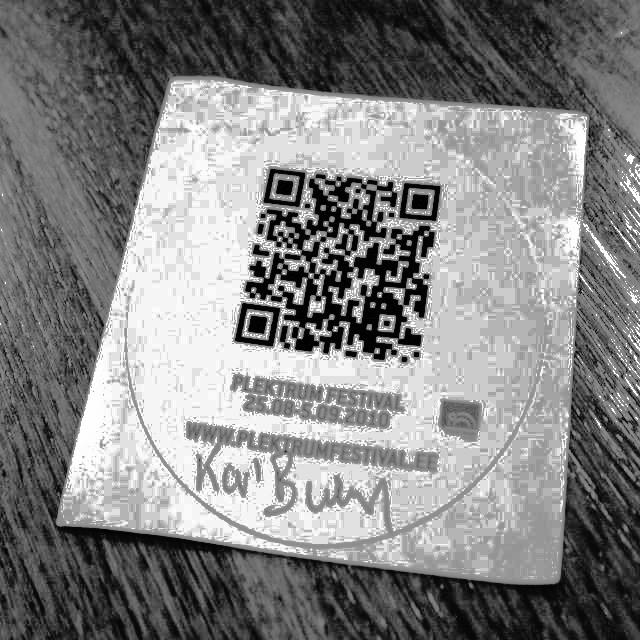qr_code: (234, 167, 442, 365)
